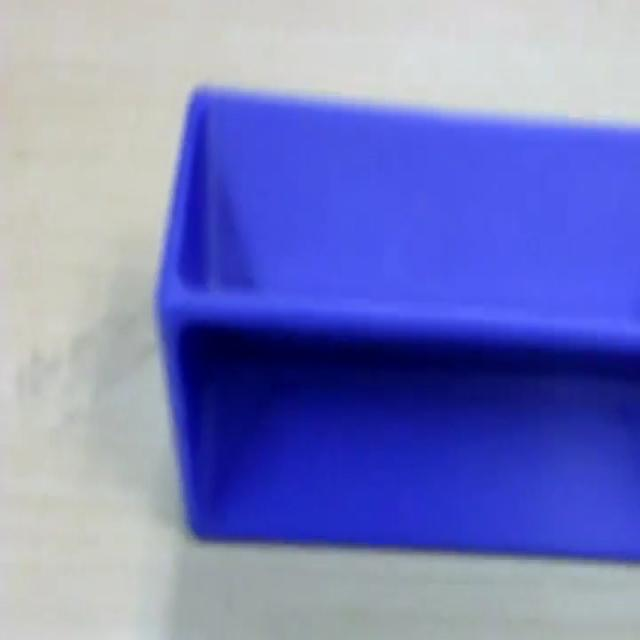blue_block: (153, 80, 639, 560)
